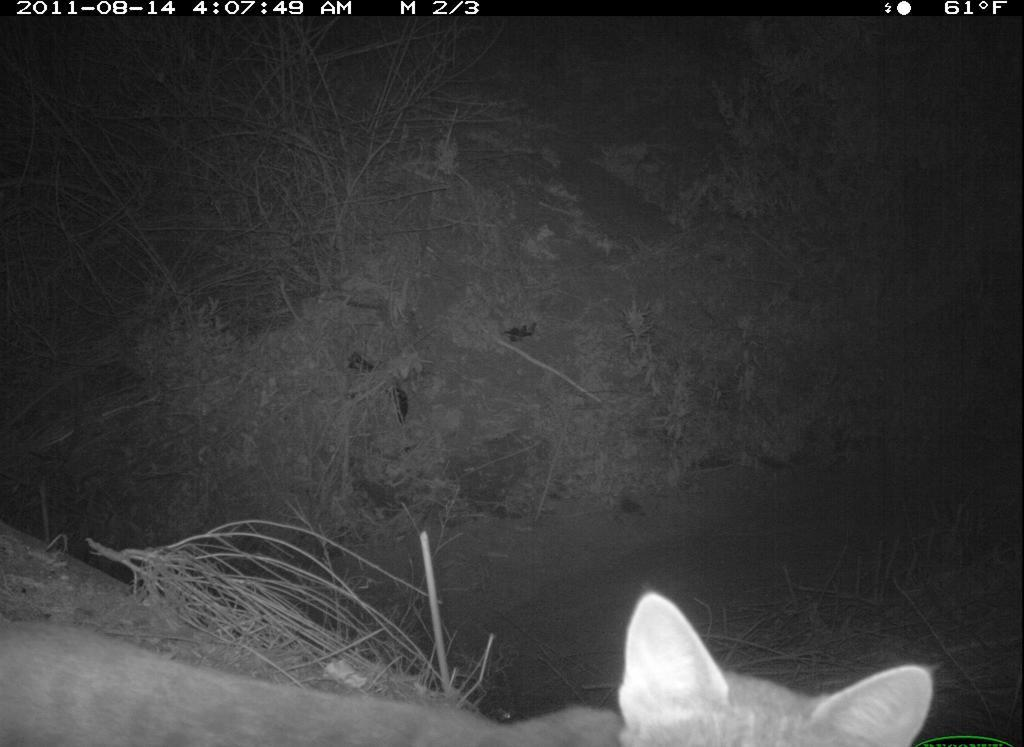cat: (3, 584, 937, 745)
